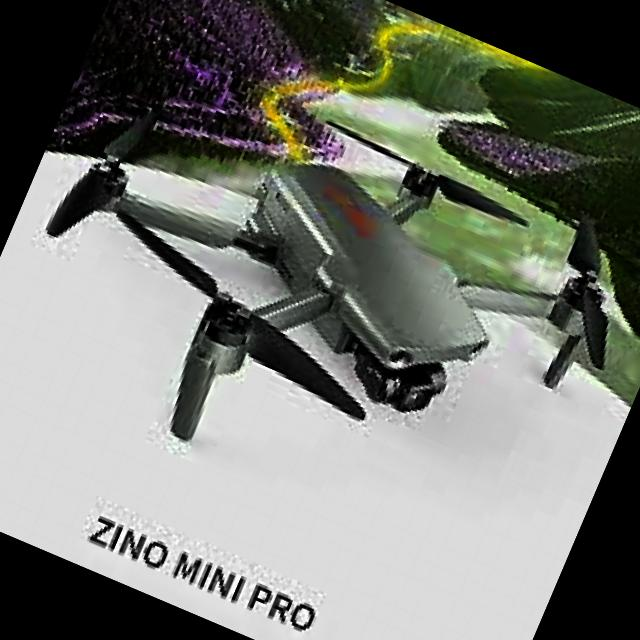drone: (0, 15, 640, 587)
